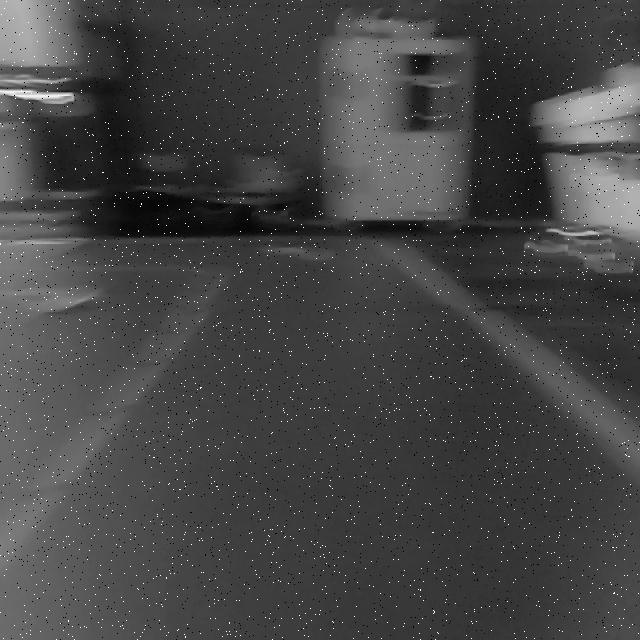left_lane: (1, 268, 227, 580)
right_lane: (376, 241, 640, 484)
